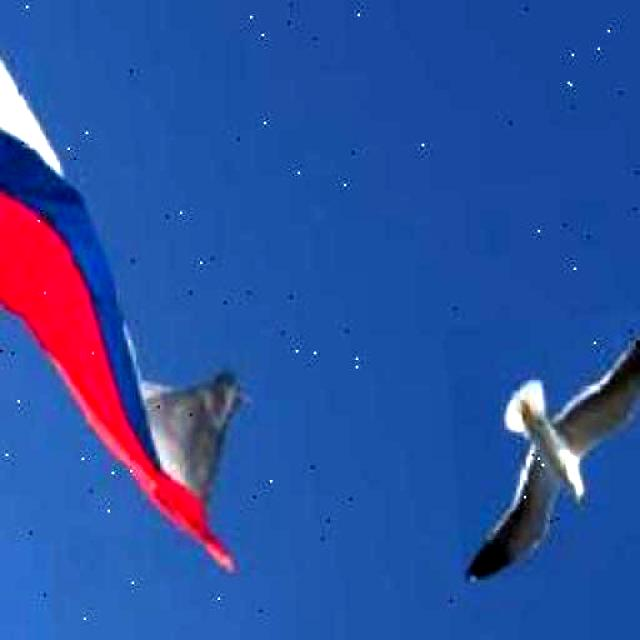airplane: (441, 308, 640, 581)
